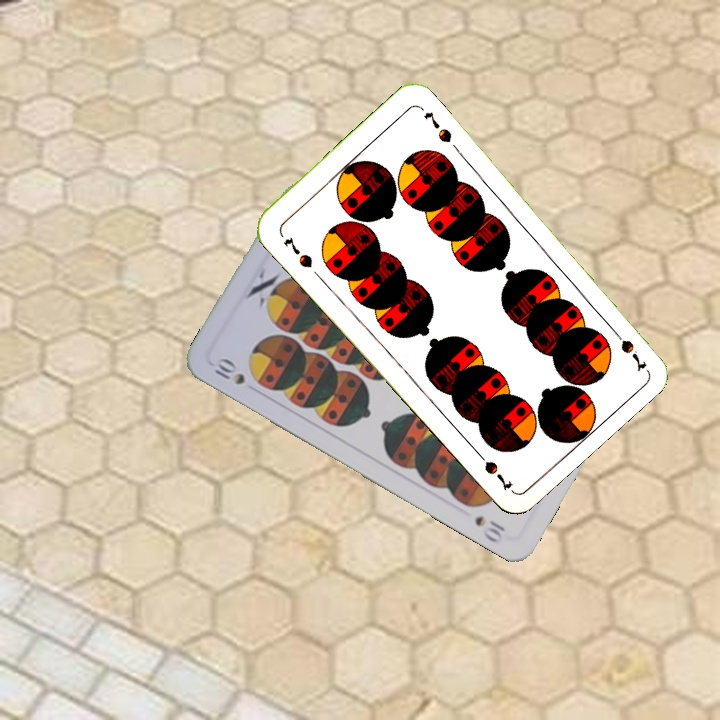S10: (210, 354, 248, 388)
S7: (605, 322, 650, 372), (278, 232, 315, 271)
